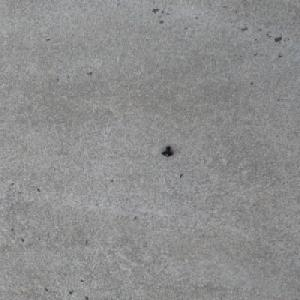BoltWasher: (160, 146, 173, 156)
